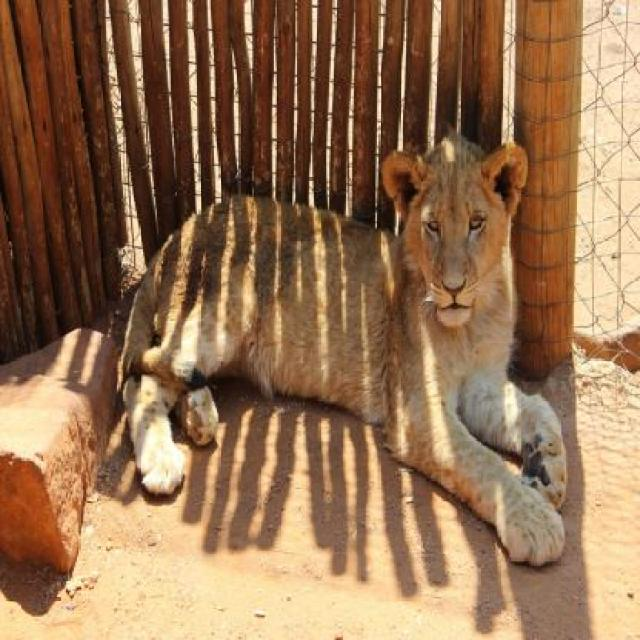Lion: (92, 123, 574, 579)
